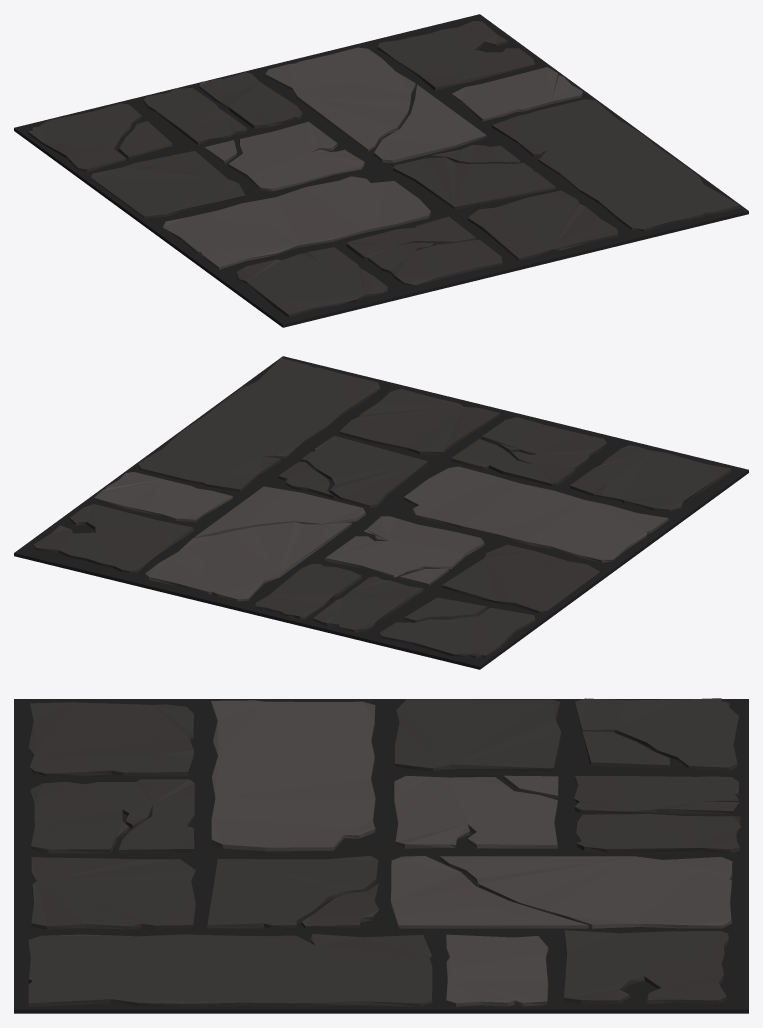
Rendered from FloorSquare_02.glb.
3 views of the same model, one above another, from view 1: azimuth 30°, elevation 25°; view 2: azimuth 150°, elevation 25°; view 3: azimuth 270°, elevation 25° (orthographic). The views are drawn at different scales.
Parts seen in each view (by area): view 1: FloorSquare_02; view 2: FloorSquare_02; view 3: FloorSquare_02.
Boxes of the visible parts, x1=… form: FloorSquare_02: x1=14, y1=14, x2=748, y2=327; FloorSquare_02: x1=14, y1=356, x2=748, y2=669; FloorSquare_02: x1=14, y1=698, x2=748, y2=1013.
Size of what is drawn, in the model's own units: 4 by 0.054 by 4.
1 material, 1 textured.
